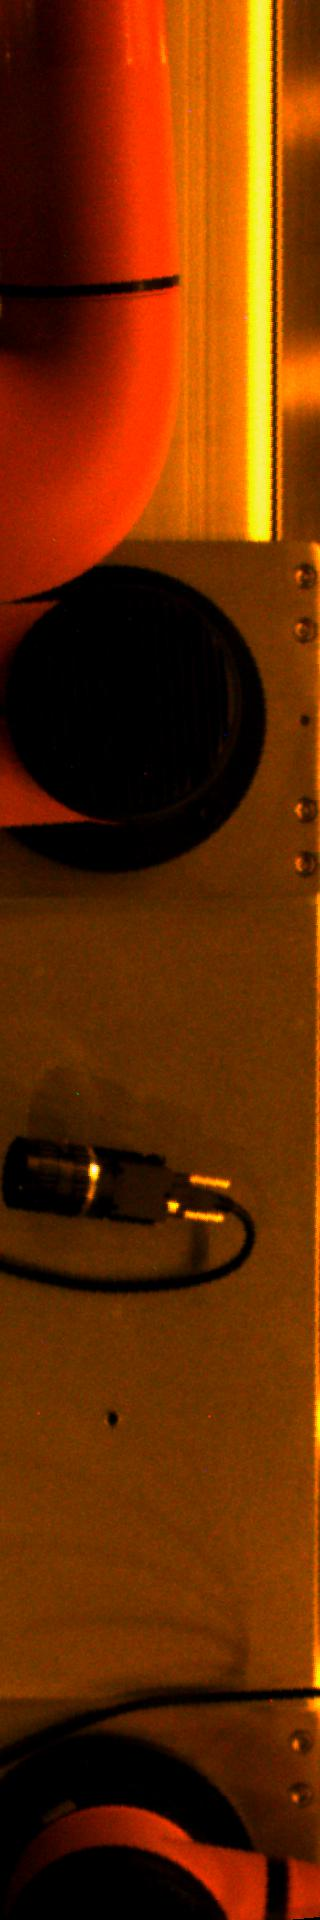keyPoint_2: (97, 1403, 128, 1433)
